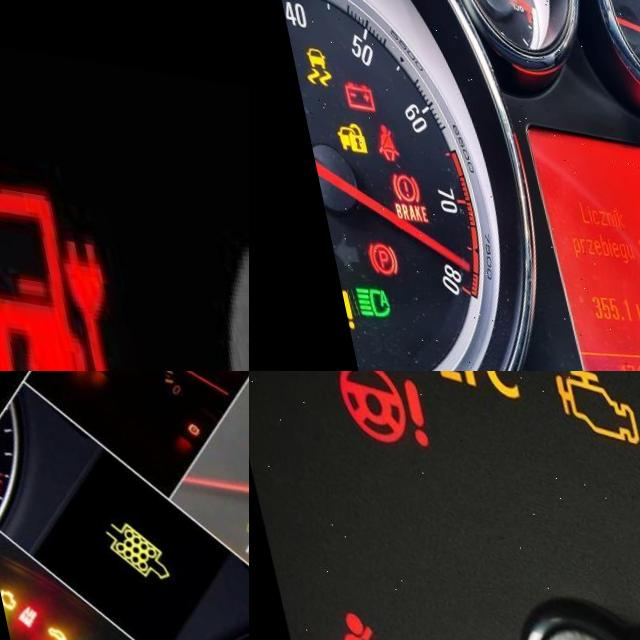Seat Belt: (325, 371, 425, 449), (304, 607, 385, 640), (358, 119, 390, 163)
